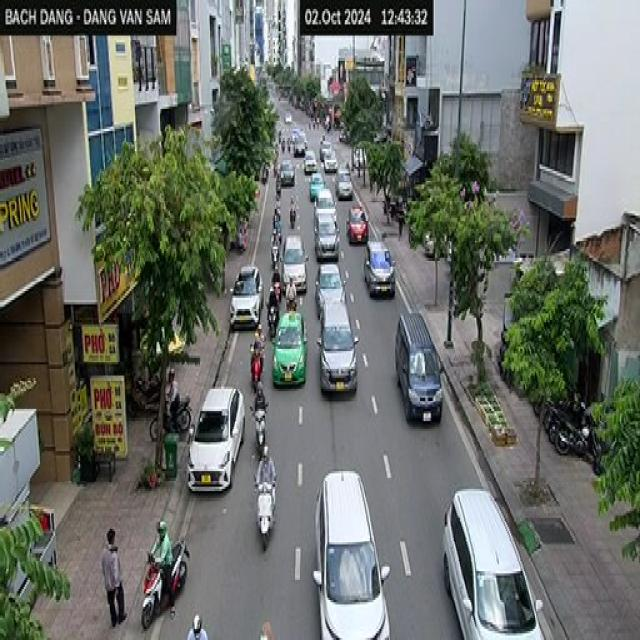car: (441, 487, 545, 638), (311, 469, 390, 638), (186, 384, 245, 494), (393, 311, 442, 425), (316, 298, 359, 393), (272, 309, 308, 387), (279, 232, 316, 294), (310, 210, 348, 270), (228, 264, 262, 329), (363, 238, 395, 298), (334, 160, 362, 223), (312, 164, 338, 224), (316, 271, 353, 311), (347, 206, 376, 247), (278, 158, 302, 190)
motorcycle: (140, 535, 189, 629), (252, 471, 276, 549), (153, 399, 194, 439), (248, 402, 268, 453)
person: (147, 518, 175, 616), (101, 526, 128, 626), (253, 443, 279, 484), (251, 378, 273, 424), (267, 266, 284, 314), (162, 362, 178, 397), (186, 613, 208, 638), (282, 264, 298, 297), (249, 327, 268, 354), (287, 184, 298, 222), (272, 227, 282, 250)
